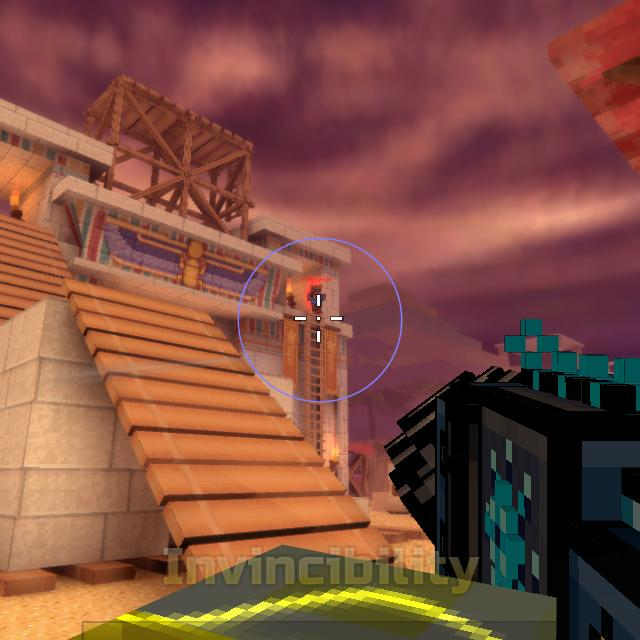Enemy: (307, 285, 326, 313)
